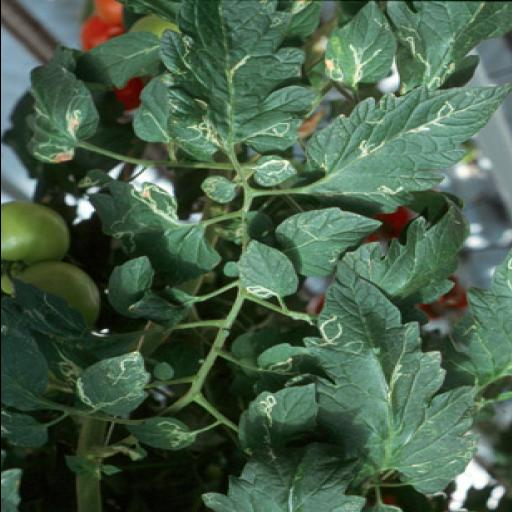Leaf Miner: (302, 260, 480, 496), (301, 84, 512, 217), (156, 0, 324, 160), (198, 382, 368, 512), (324, 0, 399, 87), (72, 351, 152, 419), (235, 240, 297, 302)
